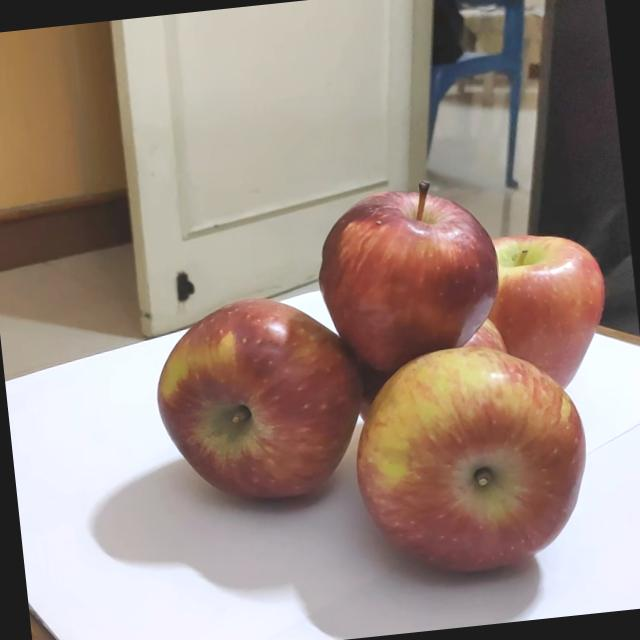apple: (140, 258, 396, 528), (382, 350, 588, 562), (324, 163, 523, 366), (458, 196, 640, 379)
